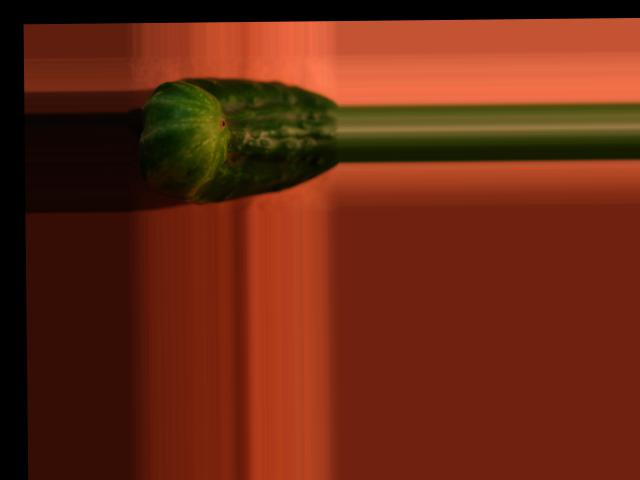cucumber: (139, 75, 339, 203)
